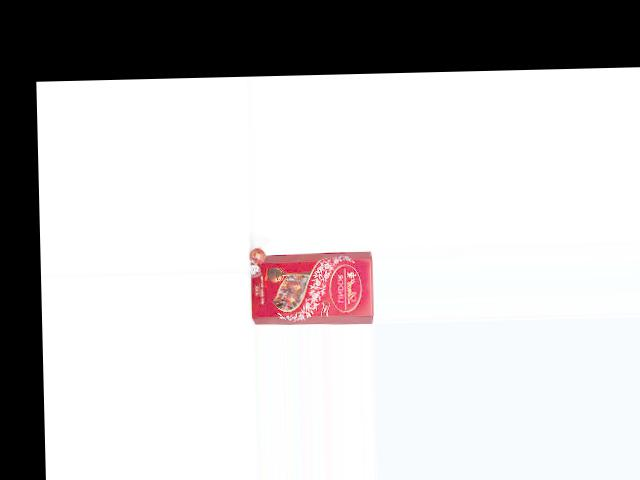chocolate: (250, 244, 373, 325)
